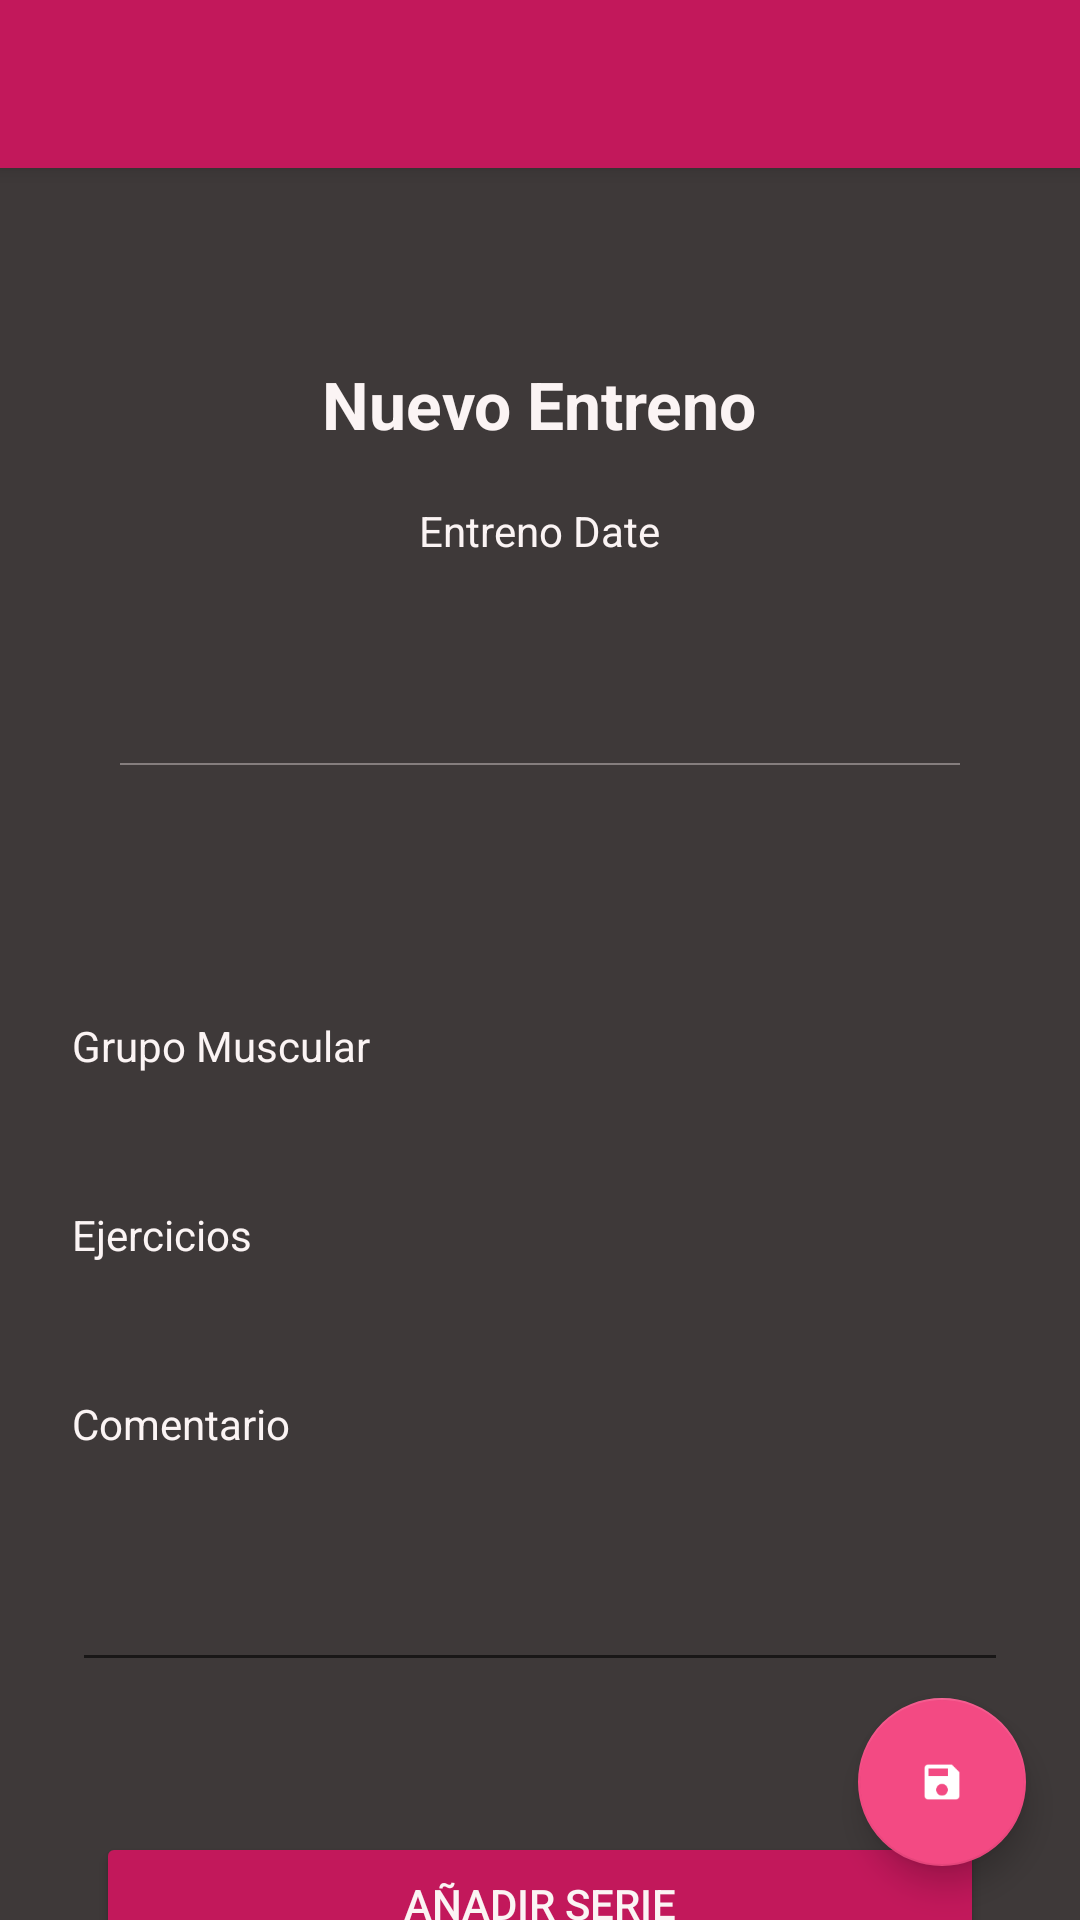

Locate icon controls on the screen. Image size 1080x1920, boxes as (x1, y1, x2, y2).
save: (858, 1698, 1026, 1866)
